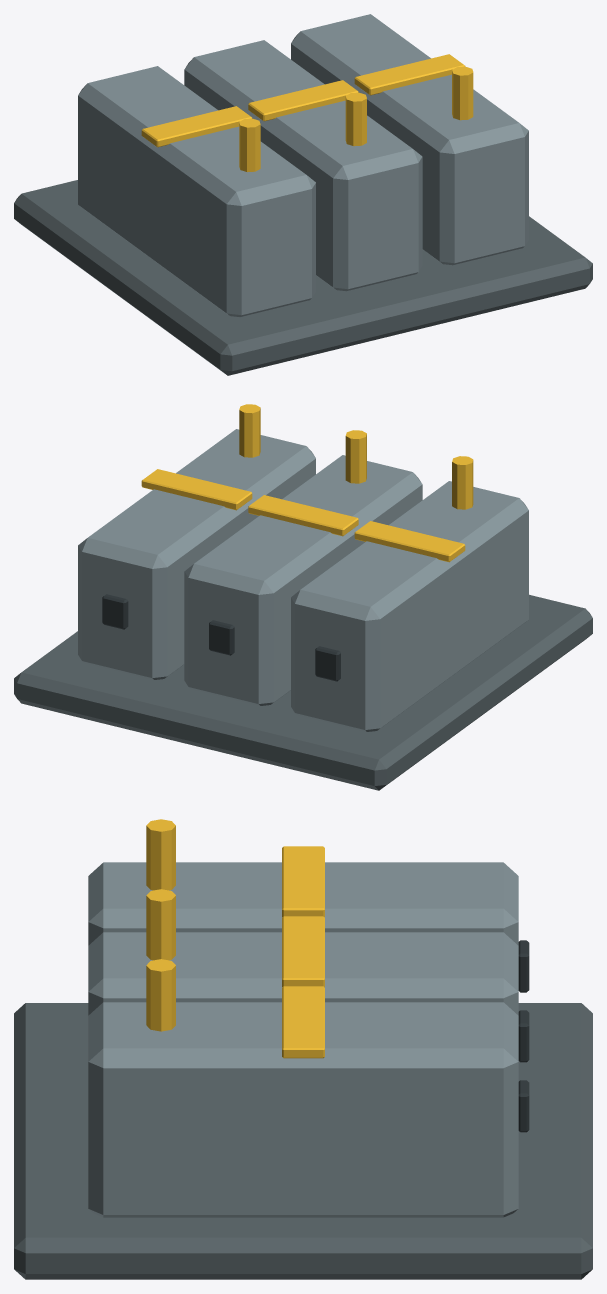
File: MOD_Magazine.fbx
3 renders of one model, top to bottom at view 1: azimuth 30°, elevation 25°; view 2: azimuth 150°, elevation 25°; view 3: azimuth 270°, elevation 25°, orthographic. The views are drawn at different scales.
Parts seen in each view (by area): view 1: AmmoCrate_01, ModuleDeck, AmmoCrate_02, AmmoCrate_03, AmmoBand_01, AmmoBand_02, AmmoBand_03, Shell.001, Shell, Shell.002; view 2: AmmoCrate_01, ModuleDeck, AmmoCrate_03, AmmoCrate_02, AmmoBand_01, AmmoBand_03, AmmoBand_02, Shell, Shell.001, Shell.002, CrateLatch_03, CrateLatch_01 (+1 smaller); view 3: AmmoCrate_03, ModuleDeck, AmmoCrate_01, AmmoCrate_02, AmmoBand_03, AmmoBand_01, AmmoBand_02, Shell.002, Shell, Shell.001, CrateLatch_03, CrateLatch_01 (+1 smaller).
Boxes of the visible parts, <box> form: AmmoCrate_01: <box>78,66,315,316</box>; ModuleDeck: <box>14,180,592,375</box>; AmmoCrate_02: <box>184,40,422,291</box>; AmmoCrate_03: <box>291,14,528,265</box>; AmmoBand_01: <box>141,106,252,147</box>; AmmoBand_02: <box>248,80,358,121</box>; AmmoBand_03: <box>354,54,465,95</box>; Shell.001: <box>345,92,366,146</box>; Shell: <box>239,118,260,172</box>; Shell.002: <box>452,66,473,120</box>; AmmoCrate_01: <box>291,481,528,731</box>; ModuleDeck: <box>14,594,592,790</box>; AmmoCrate_03: <box>78,429,315,679</box>; AmmoCrate_02: <box>184,455,422,705</box>; AmmoBand_01: <box>354,521,465,562</box>; AmmoBand_03: <box>141,469,252,510</box>; AmmoBand_02: <box>248,495,358,536</box>; Shell: <box>452,456,473,509</box>; Shell.001: <box>345,430,366,483</box>; Shell.002: <box>239,404,260,457</box>; CrateLatch_03: <box>102,594,128,629</box>; CrateLatch_01: <box>315,646,340,681</box>; AmmoCrate_03: <box>88,1002,518,1217</box>; ModuleDeck: <box>14,1003,592,1279</box>; AmmoCrate_01: <box>88,862,518,945</box>; AmmoCrate_02: <box>88,932,518,1015</box>; AmmoBand_03: <box>282,986,324,1058</box>; AmmoBand_01: <box>282,846,324,916</box>; AmmoBand_02: <box>282,916,324,986</box>; Shell.002: <box>146,959,175,1031</box>; Shell: <box>146,819,175,890</box>; Shell.001: <box>146,889,175,960</box>; CrateLatch_03: <box>518,1080,529,1132</box>; CrateLatch_01: <box>518,940,529,992</box>.
Bounding box in the file's own units: 175 × 89 × 175.
